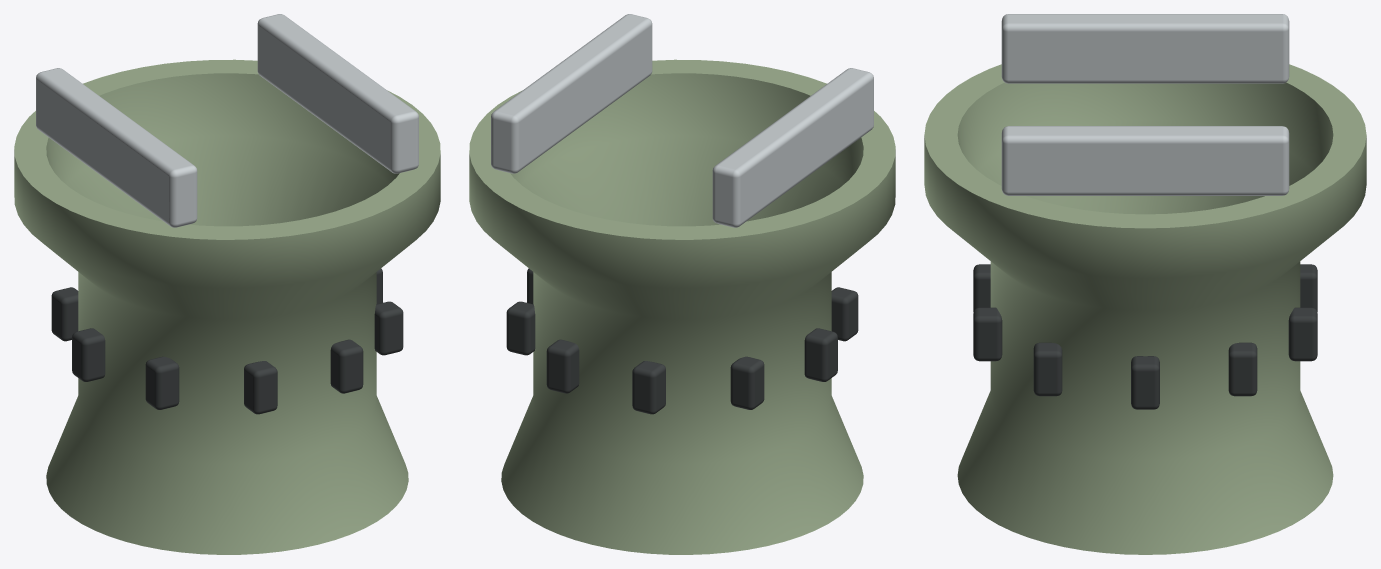
File: tea-brazier.glb
3 renders of one model, left to right at view 1: azimuth 30°, elevation 25°; view 2: azimuth 150°, elevation 25°; view 3: azimuth 270°, elevation 25°, orthographic. The views are drawn at different scales.
Parts seen in each view (by area): view 1: tea-brazier; view 2: tea-brazier; view 3: tea-brazier.
Boxes of the visible parts, x1,y1,x2,y2 form: tea-brazier: (14,14,440,554); tea-brazier: (469,14,895,554); tea-brazier: (924,14,1366,554).
Bounding box in the file's own units: 0.4 × 0.4 × 0.4.
